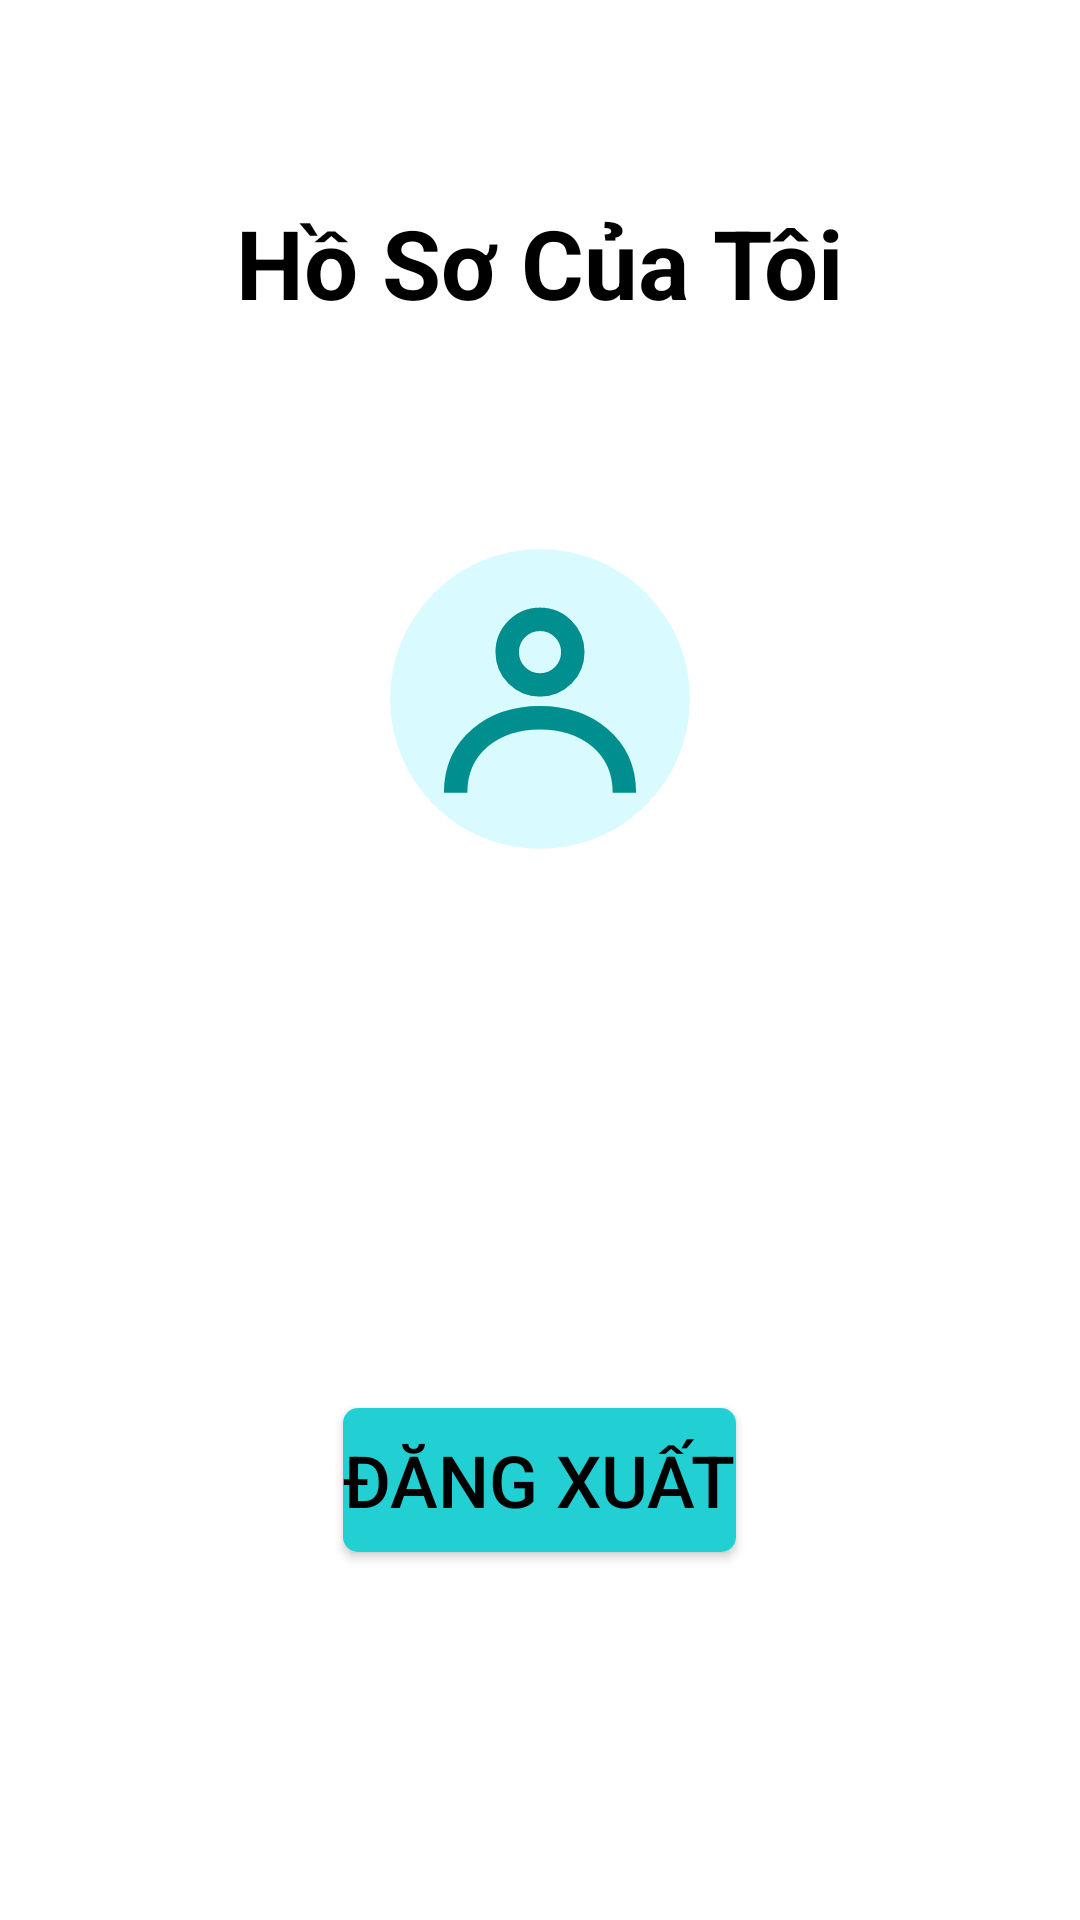

Icon bounding boxes for this 1080x1920 phone screenshot, format (x1, y1, x2, y2):
profile: (390, 549, 690, 849)
